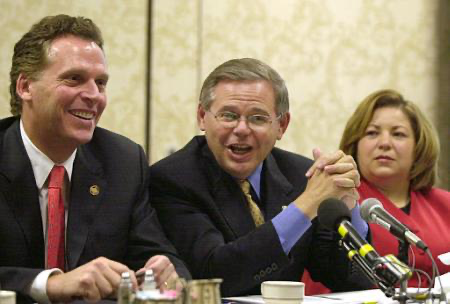Face: (42, 46, 114, 148), (208, 93, 280, 173), (359, 113, 414, 180)
